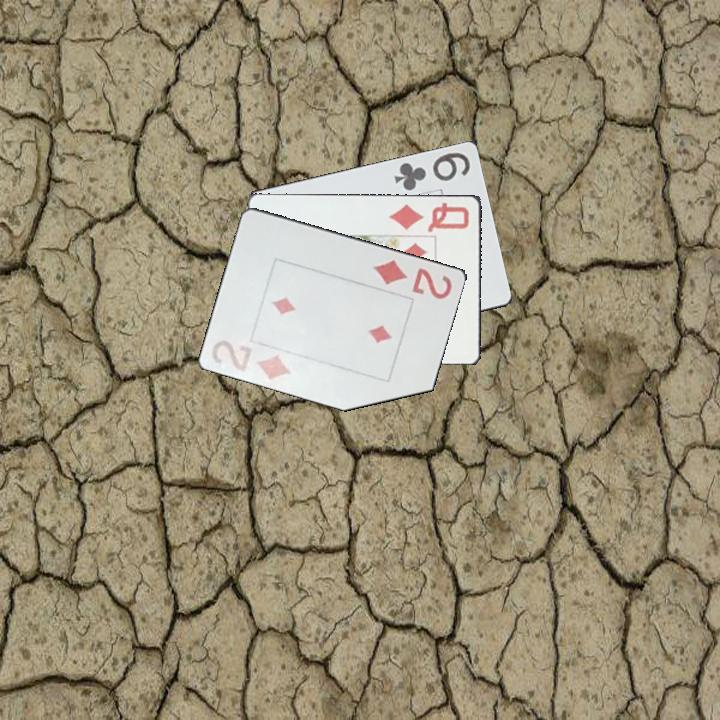2d: (208, 336, 296, 384), (369, 256, 456, 302)
6c: (390, 148, 473, 193)
Qd: (386, 198, 472, 235)
